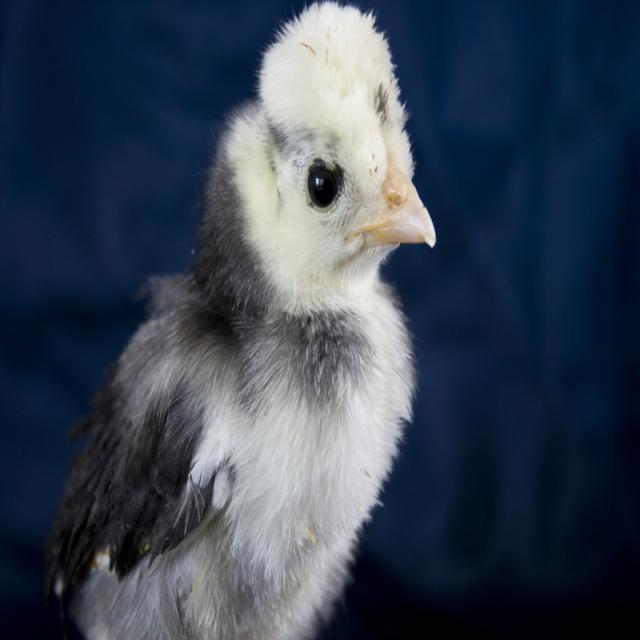Chicken: (36, 0, 434, 639)
